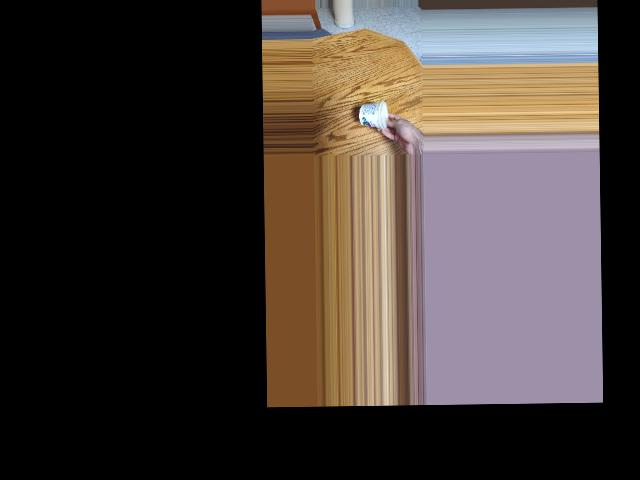cotage: (359, 95, 387, 124)
